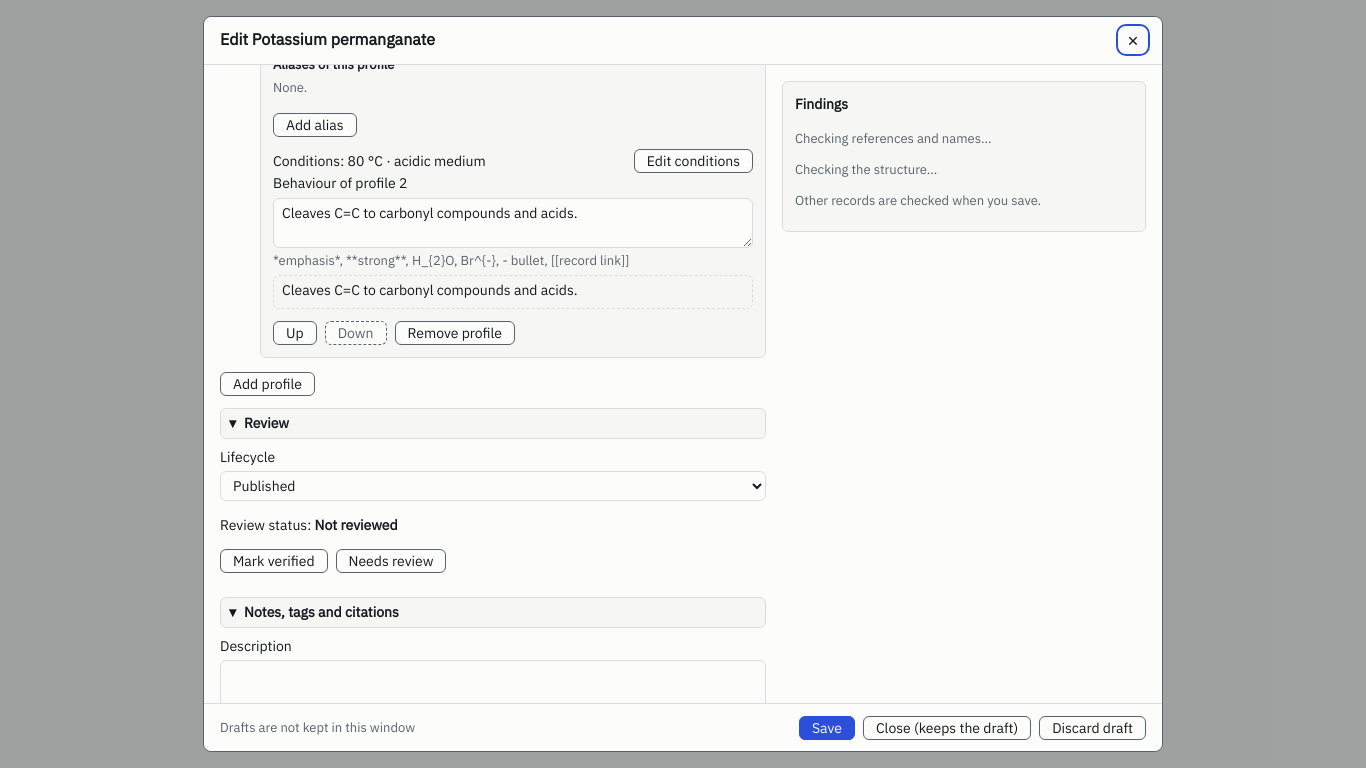
Test: Profiles › an empty profile label is refused by Save with the schema's words
This screenshot has width=1366, height=768.
(page scrolled)
Click the button "Add profile": (267, 384) [220,372,315,396]
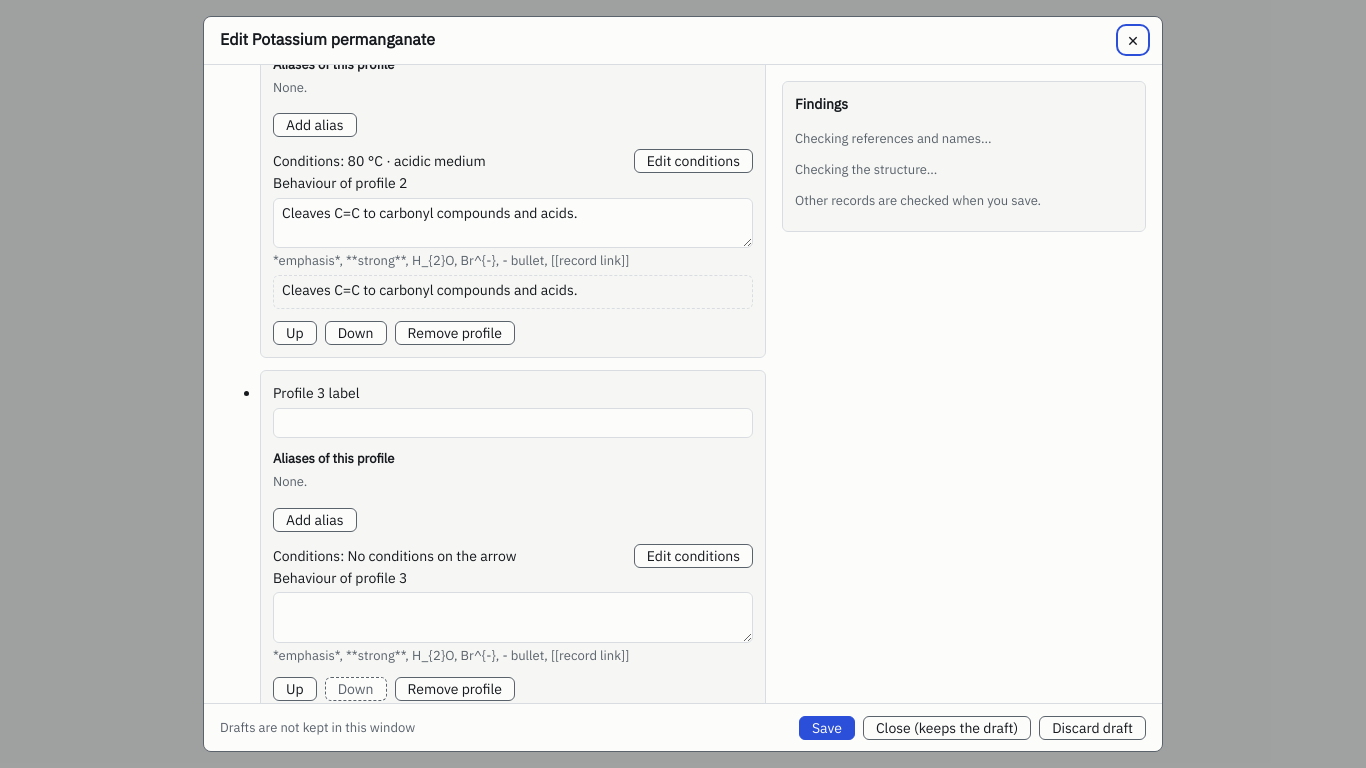
Click the button "Save": (827, 728) [799,716,855,740]
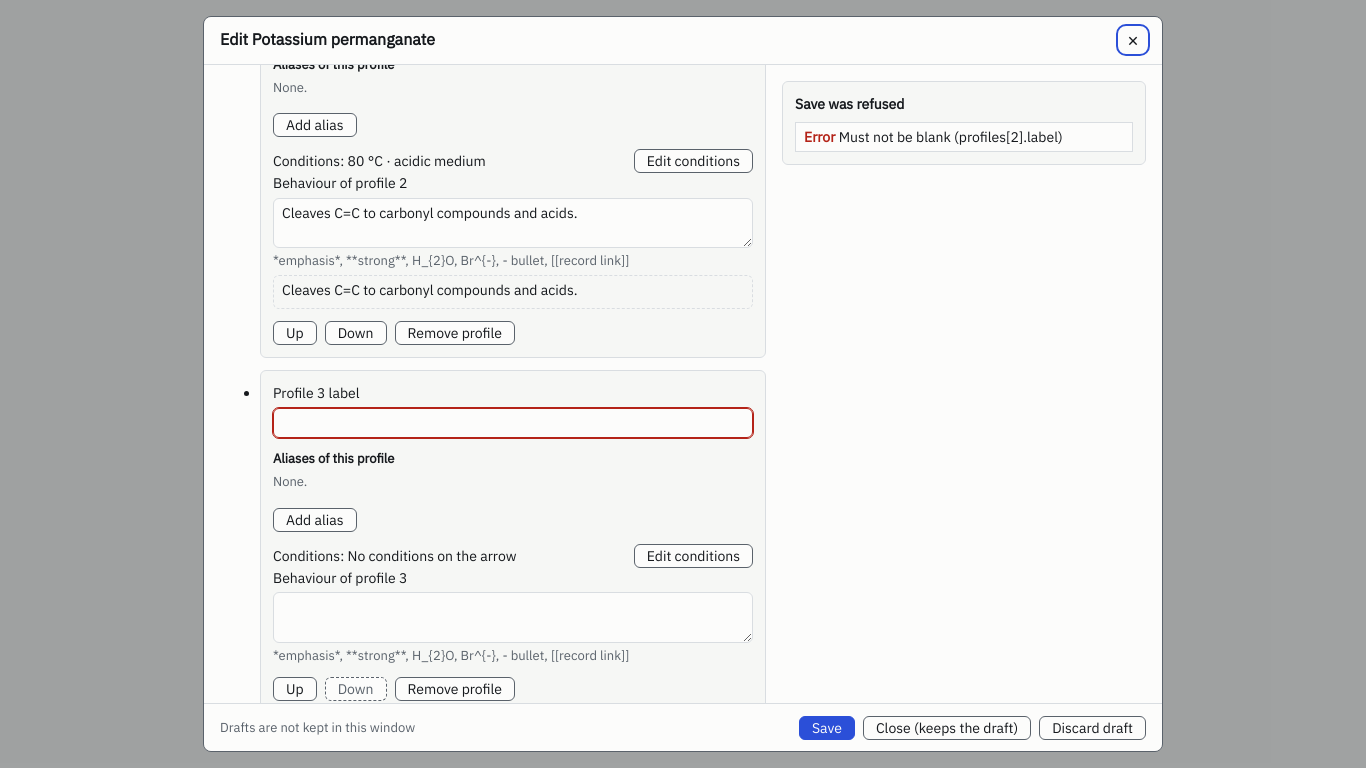
Expected: the heading "Save was refused" is shown, [795,95,904,113]
